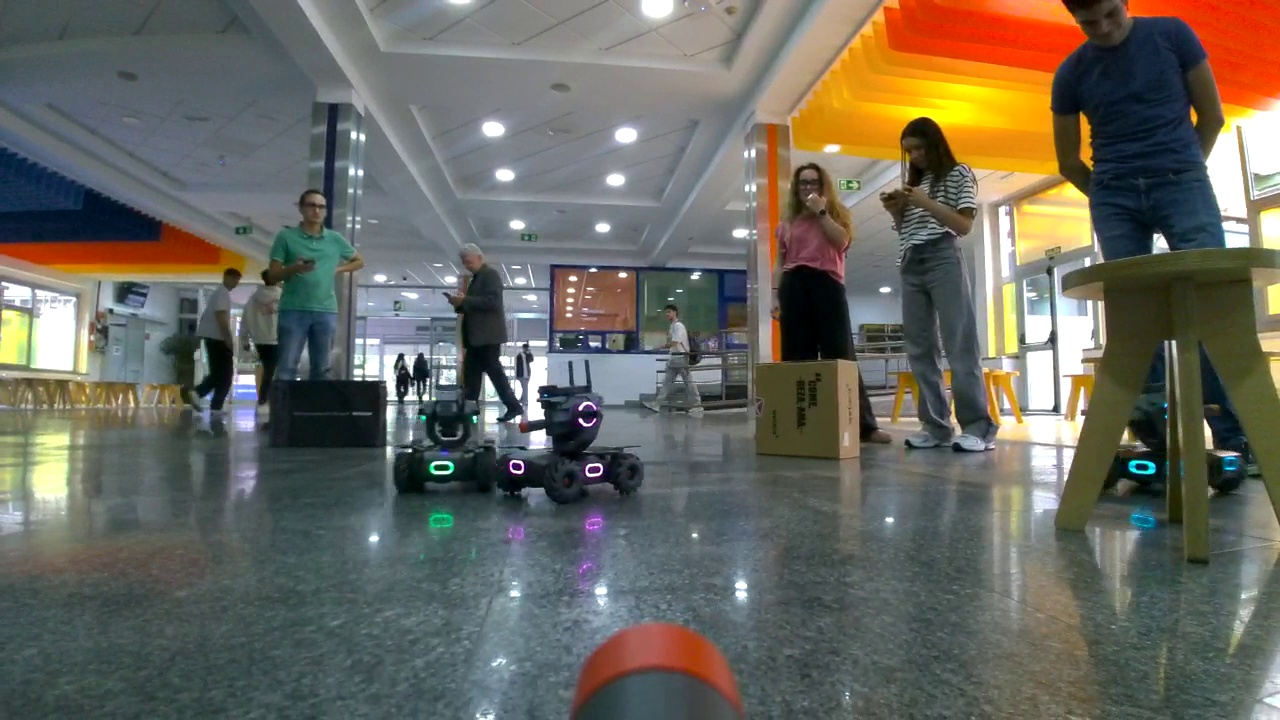robot: (497, 384, 644, 496), (392, 386, 498, 493)
